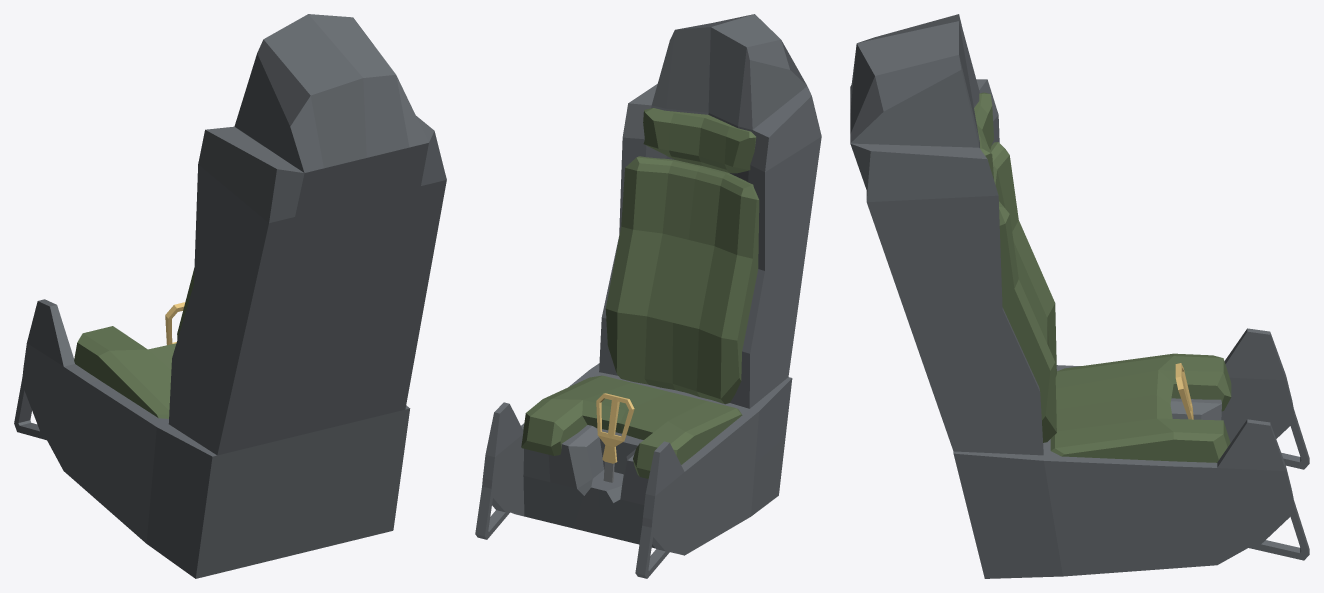
Rendered from Seat.glb.
3 renders of one model, left to right at view 1: azimuth 30°, elevation 25°; view 2: azimuth 150°, elevation 25°; view 3: azimuth 270°, elevation 25°, orthographic. The views are drawn at different scales.
Parts seen in each view (by area): view 1: BaseSeat, CushionButt; view 2: BaseSeat, CushionBack, CushionButt, CusionNeck, Ejector; view 3: BaseSeat, CushionButt, CushionBack, CusionNeck.
Part boxes in pixels (x1,y1,x2,y2): BaseSeat: [14, 14, 446, 578]; CushionButt: [74, 326, 176, 418]; BaseSeat: [475, 14, 821, 578]; CushionBack: [605, 156, 759, 404]; CushionButt: [521, 375, 742, 478]; CusionNeck: [643, 108, 756, 173]; Ejector: [596, 393, 634, 482]; BaseSeat: [850, 14, 1309, 578]; CushionButt: [1050, 353, 1231, 462]; CushionBack: [990, 142, 1056, 442]; CusionNeck: [974, 92, 993, 179].
Size of the model in its own units: 1.07 by 2.66 by 2.16.
